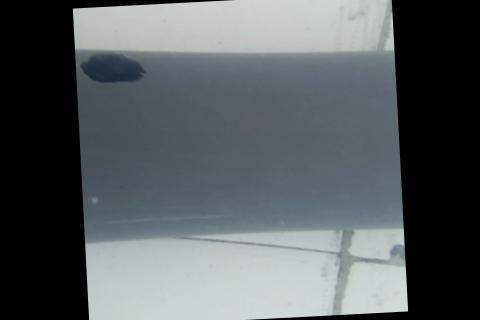kebocoran: (76, 49, 148, 87)
